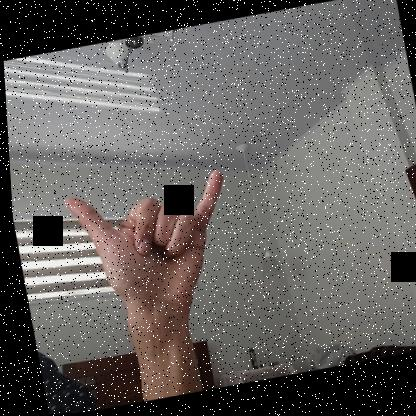Y: (57, 166, 245, 332)
